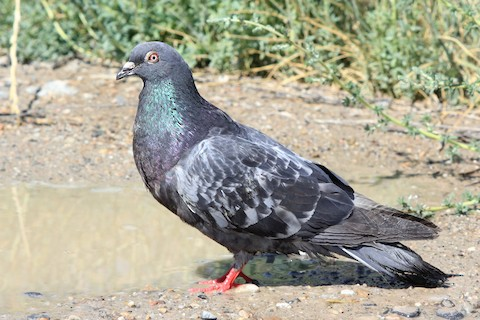pigeon: (114, 38, 455, 301)
